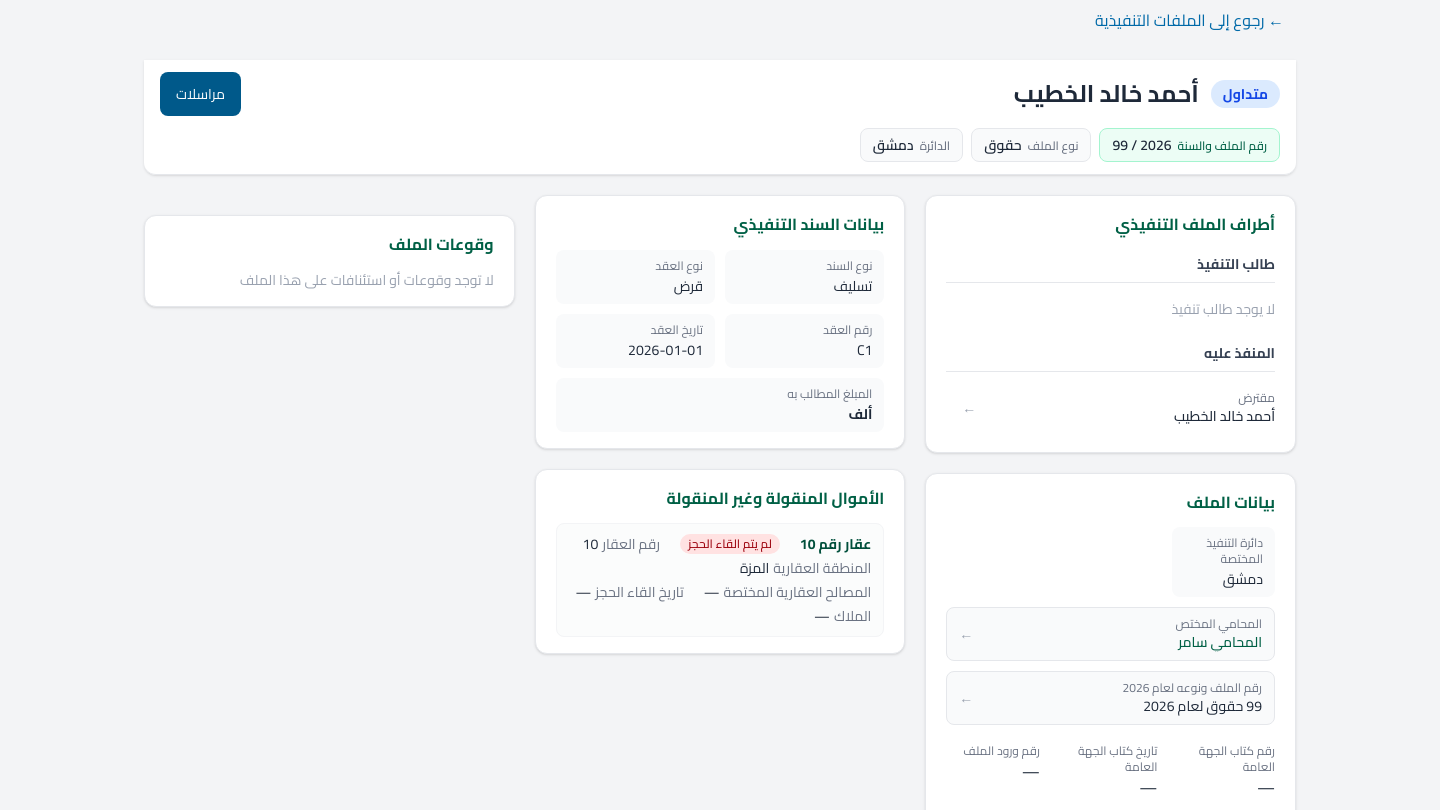
Test: PortalFileDetail المرآة القرائية › نافذة أرقام الأساس تجلب من نقطة البوابة (ف7)
The width and height of the screenshot is (1440, 810).
Click the button with aria-label "عرض أرقام الأساس للسنوات السابقة".
click(1206, 688)  # box top-left (946, 671), bottom-right (1275, 725)
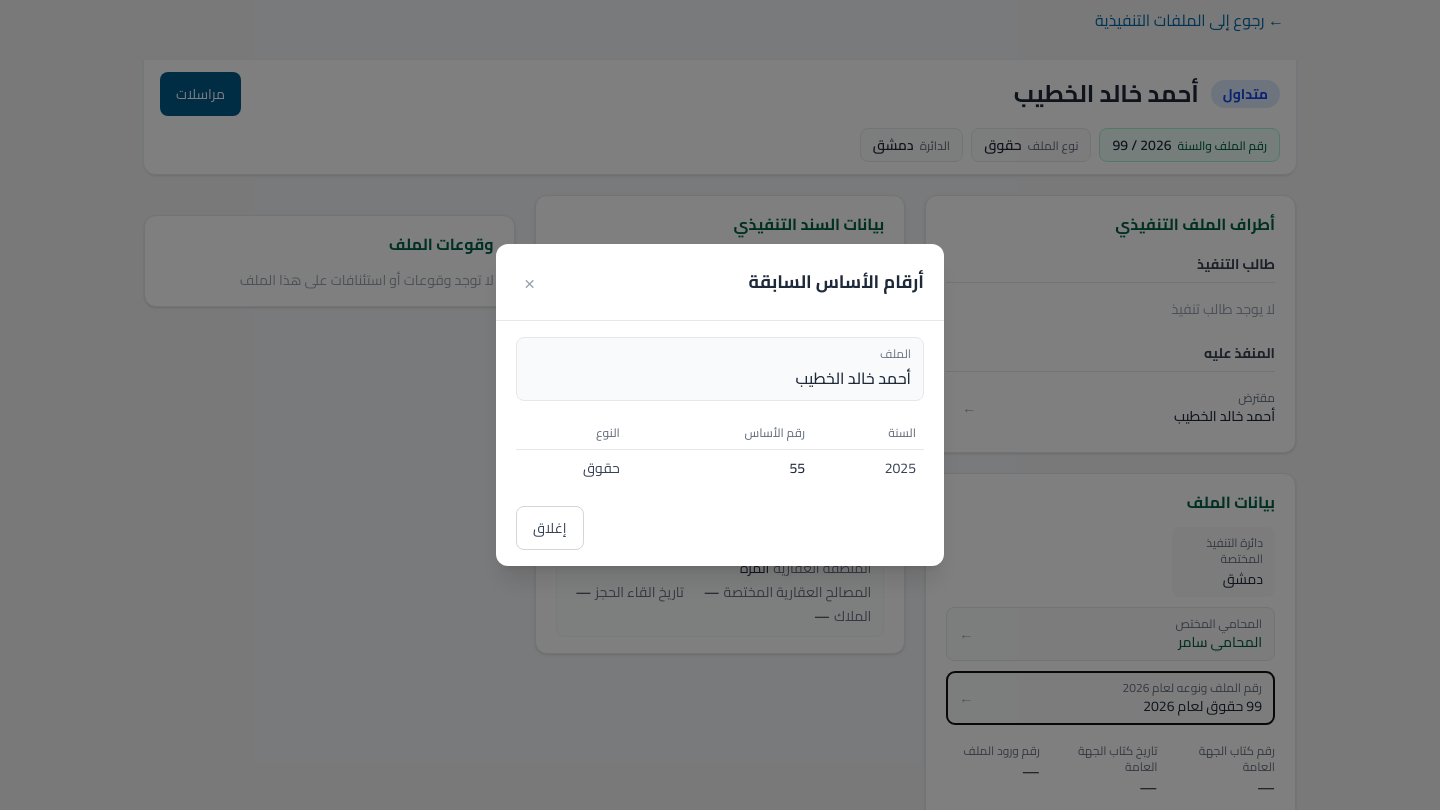
Result: the dialog named "أرقام الأساس للسنوات السابقة" is shown
Result: the text "55" is shown at top-left (620, 449), bottom-right (813, 486)
